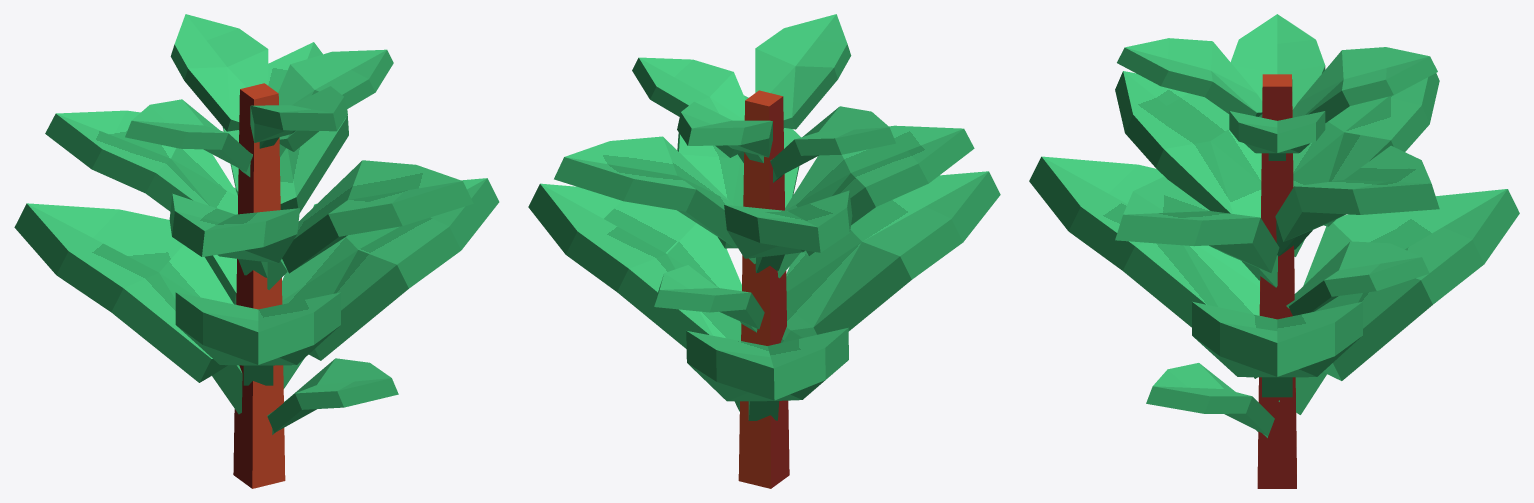
Rendered from mint.fbx.
3 renders of one model, left to right at view 1: azimuth 30°, elevation 25°; view 2: azimuth 150°, elevation 25°; view 3: azimuth 270°, elevation 25°, orthographic. The views are drawn at different scales.
Visible parts, largest first — view 1: mint; view 2: mint; view 3: mint.
Part boxes in pixels (x1,y1,x2,y2): mint: (14, 14, 499, 488); mint: (528, 14, 1000, 488); mint: (1029, 14, 1519, 488).
Bounding box in the file's own units: 85.87 × 91.35 × 93.79.
1 material, 1 textured.
